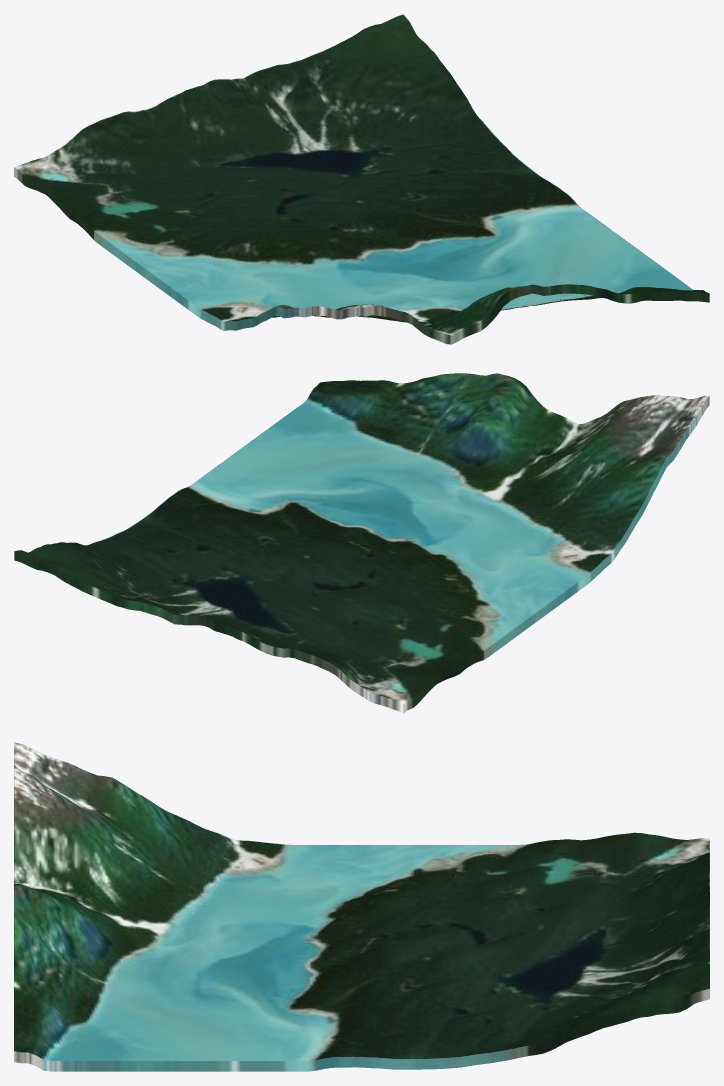
3 renders of one model, top to bottom at view 1: azimuth 30°, elevation 25°; view 2: azimuth 150°, elevation 25°; view 3: azimuth 270°, elevation 25°, orthographic. The views are drawn at different scales.
Parts seen in each view (by area): view 1: tile; view 2: tile; view 3: tile.
Boxes of the visible parts, <box> form: tile: <box>14,14,709,344</box>; tile: <box>14,373,709,713</box>; tile: <box>14,742,709,1071</box>.
Bounding box in the file's own units: 4050 × 985 × 5505.
Materials: 1 (1 with a texture image).
